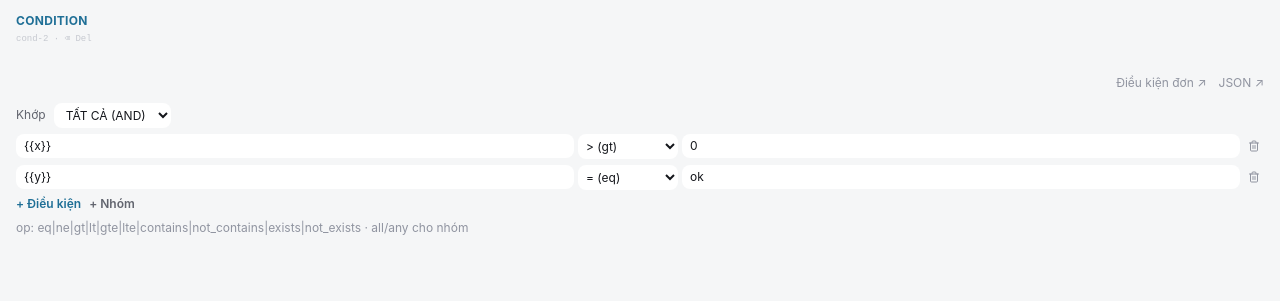
ConditionForm — structured all/any group builder (nested predicate) › JSON escape hatch still reachable from the group builder
Click the button "JSON ↗".
click(1241, 82)  # box x1=1218 y1=74 x2=1264 y2=90
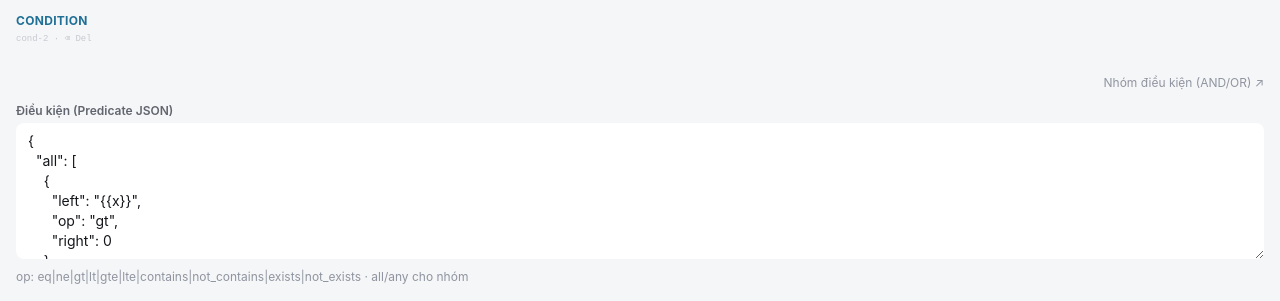
Result: the text box with placeholder "\"left\"" is shown at x1=16 y1=122 x2=1264 y2=258
